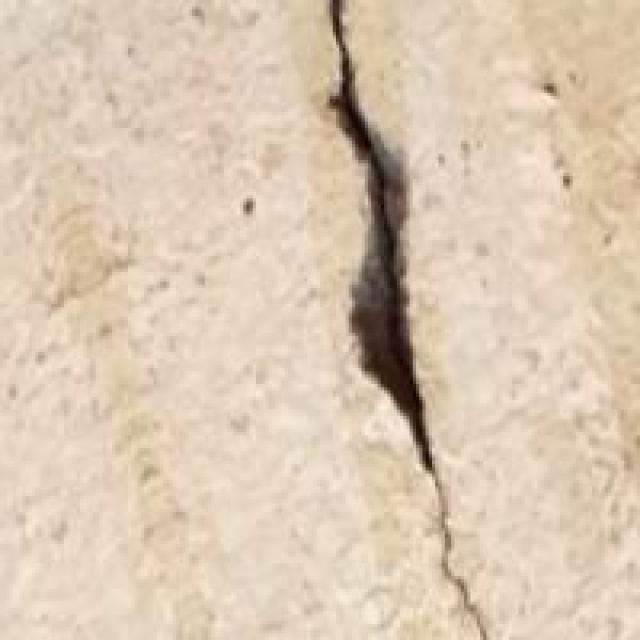crack: (268, 0, 506, 589)
